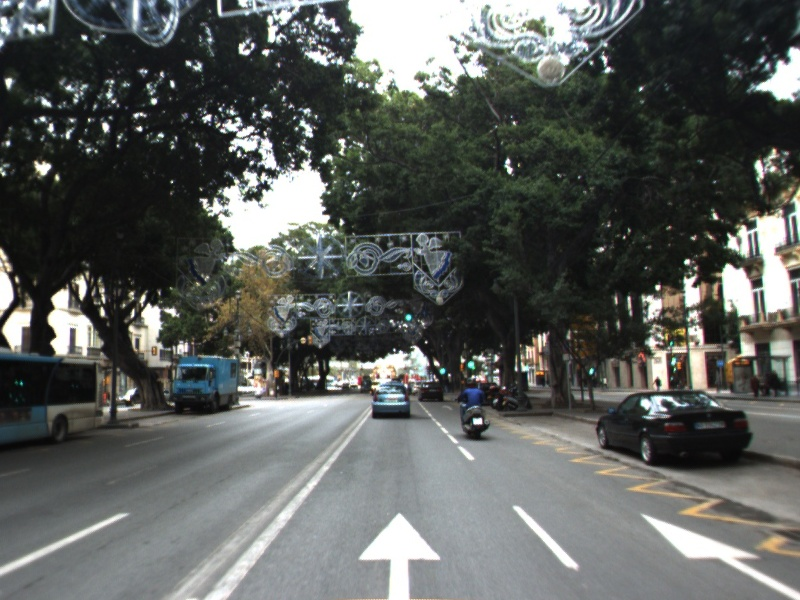STRAIGHT: (636, 509, 800, 600), (354, 505, 445, 600), (440, 403, 455, 412)
